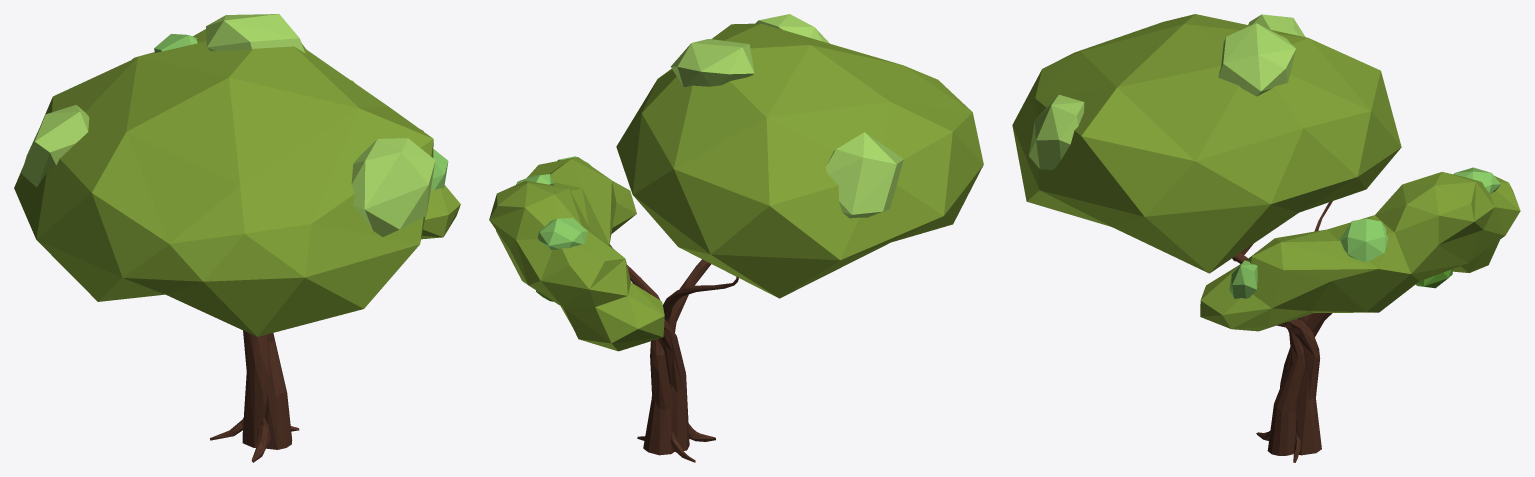
The model's file is tree4.fbx.
3 views of the same model, side by side, from view 1: azimuth 30°, elevation 25°; view 2: azimuth 150°, elevation 25°; view 3: azimuth 270°, elevation 25° (orthographic). The views are drawn at different scales.
Visible parts, largest first — view 1: tree4_leaves, tree4_trunk; view 2: tree4_leaves, tree4_trunk; view 3: tree4_leaves, tree4_trunk.
Part boxes in pixels (bbox=[...]): tree4_leaves: bbox=[14, 14, 460, 336]; tree4_trunk: bbox=[210, 330, 299, 462]; tree4_leaves: bbox=[489, 14, 983, 351]; tree4_trunk: bbox=[609, 244, 738, 462]; tree4_leaves: bbox=[1012, 14, 1520, 331]; tree4_trunk: bbox=[1232, 201, 1332, 462].
Size of the model in its own units: 5.72 by 5.79 by 6.67.
